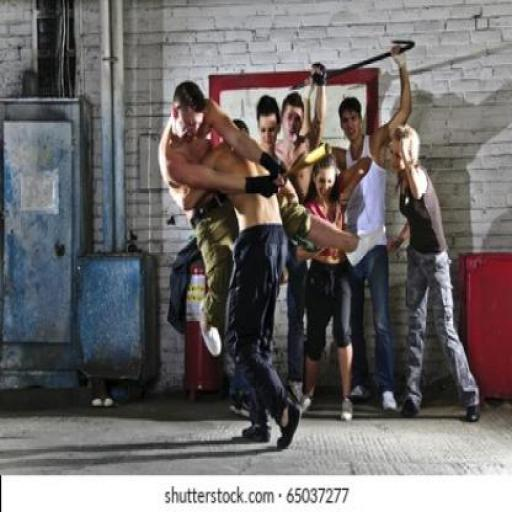Fighting: (154, 80, 311, 450)
